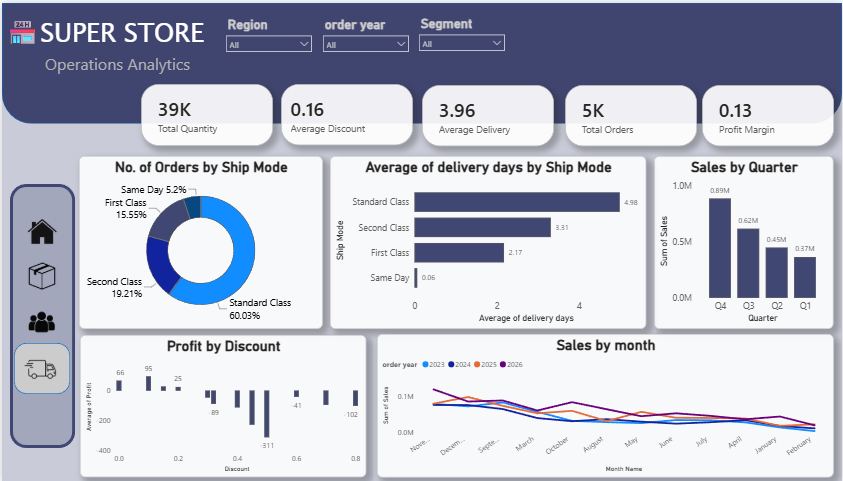

The page's visual inventory and layout, read from the dashboard file:
{"tool":"powerbi","page":{"name":"Operations & Performance Dashboard","canvas":[1400,800],"ordinal":3},"visuals":[{"type":"textbox","box":[66.7,133.3,75,70],"z":0},{"type":"shape","box":[12.9,301.4,108.6,440],"z":1000},{"type":"columnChart","title":"Sales by Quarter","fields":{"Category":["Orders.Quarter"],"Y":["Sum(Orders.Sales)"]},"box":[1086.7,254.2,299.2,287.5],"z":2000},{"type":"shape","box":[0,0,1400,201.4],"z":3000},{"type":"textbox","box":[0,12.9,364.3,78.6],"z":4000},{"type":"slicer","fields":{"Values":["Orders.Segment"]},"box":[685.7,17.1,162.9,72.9],"z":5000},{"type":"slicer","fields":{"Values":["Orders.Region"]},"box":[364,18,163,74],"z":6000},{"type":"slicer","fields":{"Values":["Orders.order year"]},"box":[525,18,163,73],"z":7000},{"type":"textbox","box":[67.1,78.6,441.4,55.7],"z":8000},{"type":"cardVisual","fields":{"Data":["Orders.Total Quantity"]},"box":[231.4,135.7,220,102.9],"z":9000},{"type":"cardVisual","fields":{"Data":["Orders.Average Discount"]},"box":[465.4,135.4,220,102.3],"z":10000},{"type":"cardVisual","fields":{"Data":["Orders.Total Orders"]},"box":[938.5,136.9,220,101.5],"z":11000},{"type":"cardVisual","fields":{"Data":["Orders.Average Delivery"]},"box":[700,136.9,220,101.5],"z":12000},{"type":"shape","box":[20,566.7,93.3,85],"z":12500},{"type":"cardVisual","fields":{"Data":["Orders.Profit Margin"]},"box":[1166.2,136.9,220,101.5],"z":13000},{"type":"image","box":[37.1,577.1,54.3,68.6],"z":14000},{"type":"image","box":[34.3,347.1,64.3,68.6],"z":15000},{"type":"image","box":[37.1,415.7,60,80],"z":16000},{"type":"image","box":[37.1,497.1,58.6,70],"z":17000},{"type":"donutChart","title":"No. of Orders by Ship Mode","fields":{"Category":["Orders.Ship Mode"],"Y":["Count(Orders.Order ID)"]},"box":[128.3,254.2,405.8,287.5],"z":18000},{"type":"clusteredBarChart","fields":{"Y":["Avg(Orders.delivery days)"],"Category":["Orders.Ship Mode"]},"box":[546.7,254.2,526.7,287.5],"z":19000},{"type":"clusteredColumnChart","title":"Profit by Discount","fields":{"Y":["Avg(Orders.Profit)"],"Category":["Orders.Discount"]},"box":[130,552.9,477.1,237.1],"z":20000},{"type":"lineChart","title":"Sales by month","fields":{"Category":["Orders.Month Name"],"Y":["Sum(Orders.Sales)"],"Series":["Orders.order year"]},"box":[624.3,551.4,761.4,238.6],"z":21000}]}

Visuals, with their boxes in screenshot pixels (x1, y1, x2, y2), scaled from the page's 1400x800 canvas onto the 843x481 screenshot:
textbox: {"left": 40, "top": 80, "right": 85, "bottom": 122}
shape: {"left": 8, "top": 181, "right": 73, "bottom": 446}
"Sales by Quarter" columnChart: {"left": 654, "top": 153, "right": 835, "bottom": 326}
shape: {"left": 0, "top": 0, "right": 842, "bottom": 121}
textbox: {"left": 0, "top": 8, "right": 219, "bottom": 55}
slicer - Orders.Segment: {"left": 413, "top": 10, "right": 511, "bottom": 54}
slicer - Orders.Region: {"left": 219, "top": 11, "right": 317, "bottom": 55}
slicer - Orders.order year: {"left": 316, "top": 11, "right": 414, "bottom": 55}
textbox: {"left": 40, "top": 47, "right": 306, "bottom": 81}
cardVisual - Orders.Total Quantity: {"left": 139, "top": 82, "right": 272, "bottom": 143}
cardVisual - Orders.Average Discount: {"left": 280, "top": 81, "right": 413, "bottom": 143}
cardVisual - Orders.Total Orders: {"left": 565, "top": 82, "right": 698, "bottom": 143}
cardVisual - Orders.Average Delivery: {"left": 421, "top": 82, "right": 554, "bottom": 143}
shape: {"left": 12, "top": 341, "right": 68, "bottom": 392}
cardVisual - Orders.Profit Margin: {"left": 702, "top": 82, "right": 835, "bottom": 143}
image: {"left": 22, "top": 347, "right": 55, "bottom": 388}
image: {"left": 21, "top": 209, "right": 59, "bottom": 250}
image: {"left": 22, "top": 250, "right": 58, "bottom": 298}
image: {"left": 22, "top": 299, "right": 58, "bottom": 341}
"No. of Orders by Ship Mode" donutChart: {"left": 77, "top": 153, "right": 322, "bottom": 326}
clusteredBarChart - Avg(Orders.delivery days) x Orders.Ship Mode: {"left": 329, "top": 153, "right": 646, "bottom": 326}
"Profit by Discount" clusteredColumnChart: {"left": 78, "top": 332, "right": 366, "bottom": 475}
"Sales by month" lineChart: {"left": 376, "top": 332, "right": 834, "bottom": 475}
